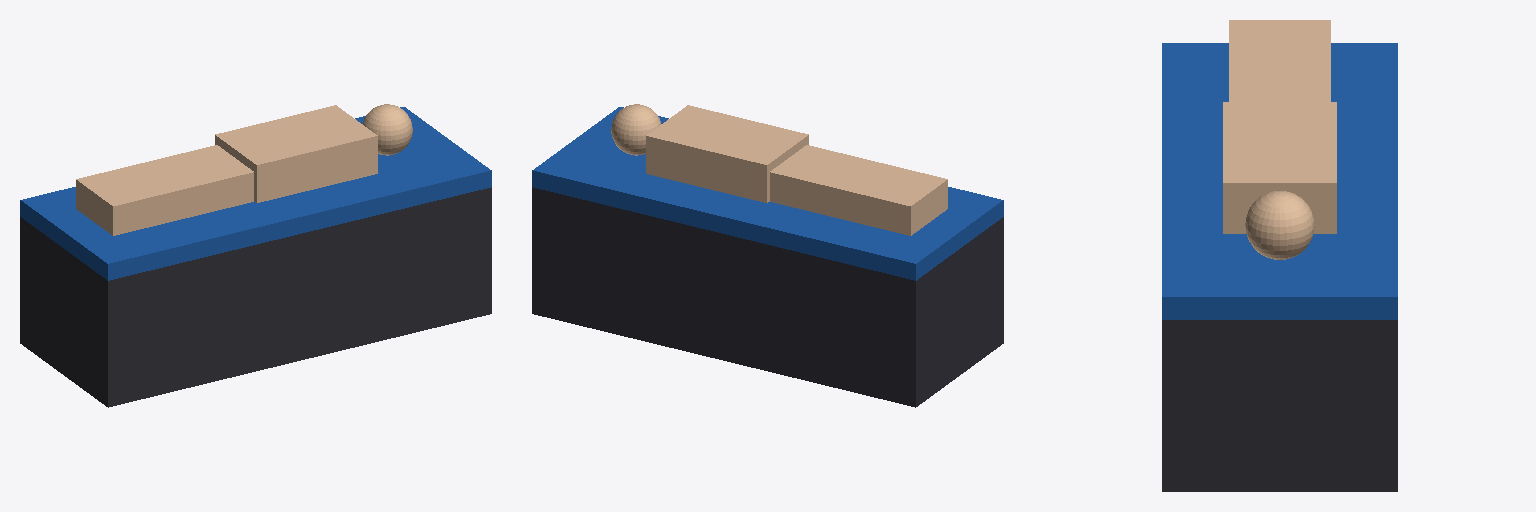
URDF robot description (tuina_bed):
<?xml version="1.0" ?>
<robot name="tuina_bed">
  <!-- Tuina Massage Bed and Patient Dummy URDF for TuinaDex Simulation -->
  
  <material name="frame_material">
    <color rgba="0.25 0.25 0.28 1.0"/>
  </material>

  <material name="mattress_material">
    <color rgba="0.18 0.42 0.70 1.0"/>
  </material>

  <material name="dummy_material">
    <color rgba="0.88 0.75 0.63 1.0"/>
  </material>

  <!-- World Base -->
  <link name="world"/>

  <!-- Bed Frame -->
  <link name="bed_frame">
    <visual>
      <origin xyz="0 0 0.30" rpy="0 0 0"/>
      <geometry>
        <box size="1.90 0.75 0.60"/>
      </geometry>
      <material name="frame_material"/>
    </visual>
    <collision>
      <origin xyz="0 0 0.30" rpy="0 0 0"/>
      <geometry>
        <box size="1.90 0.75 0.60"/>
      </geometry>
    </collision>
    <inertial>
      <origin xyz="0 0 0.30" rpy="0 0 0"/>
      <mass value="45.0"/>
      <inertia ixx="2.5" ixy="0" ixz="0" iyy="14.0" iyz="0" izz="15.0"/>
    </inertial>
  </link>

  <joint name="world_to_bed_frame" type="fixed">
    <parent link="world"/>
    <child link="bed_frame"/>
    <origin xyz="0 0 0" rpy="0 0 0"/>
  </joint>

  <!-- Bed Mattress -->
  <link name="bed_mattress">
    <visual>
      <origin xyz="0 0 0.64" rpy="0 0 0"/>
      <geometry>
        <box size="1.90 0.75 0.08"/>
      </geometry>
      <material name="mattress_material"/>
    </visual>
    <collision>
      <origin xyz="0 0 0.64" rpy="0 0 0"/>
      <geometry>
        <box size="1.90 0.75 0.08"/>
      </geometry>
    </collision>
    <inertial>
      <origin xyz="0 0 0.64" rpy="0 0 0"/>
      <mass value="15.0"/>
      <inertia ixx="0.7" ixy="0" ixz="0" iyy="4.5" iyz="0" izz="5.0"/>
    </inertial>
  </link>

  <joint name="bed_frame_to_mattress" type="fixed">
    <parent link="bed_frame"/>
    <child link="bed_mattress"/>
    <origin xyz="0 0 0" rpy="0 0 0"/>
  </joint>

  <!-- Patient Dummy - Torso (Primary massage target area) -->
  <link name="dummy_torso">
    <visual>
      <origin xyz="0.20 0 0.78" rpy="0 0 0"/>
      <geometry>
        <box size="0.60 0.36 0.18"/>
      </geometry>
      <material name="dummy_material"/>
    </visual>
    <collision>
      <origin xyz="0.20 0 0.78" rpy="0 0 0"/>
      <geometry>
        <box size="0.60 0.36 0.18"/>
      </geometry>
    </collision>
    <inertial>
      <origin xyz="0.20 0 0.78" rpy="0 0 0"/>
      <mass value="28.0"/>
      <inertia ixx="0.35" ixy="0" ixz="0" iyy="0.90" iyz="0" izz="1.10"/>
    </inertial>
  </link>

  <joint name="mattress_to_torso" type="fixed">
    <parent link="bed_mattress"/>
    <child link="dummy_torso"/>
    <origin xyz="0 0 0" rpy="0 0 0"/>
  </joint>

  <!-- Patient Dummy - Head -->
  <link name="dummy_head">
    <visual>
      <origin xyz="0.65 0 0.79" rpy="0 0 0"/>
      <geometry>
        <sphere radius="0.11"/>
      </geometry>
      <material name="dummy_material"/>
    </visual>
    <collision>
      <origin xyz="0.65 0 0.79" rpy="0 0 0"/>
      <geometry>
        <sphere radius="0.11"/>
      </geometry>
    </collision>
    <inertial>
      <origin xyz="0.65 0 0.79" rpy="0 0 0"/>
      <mass value="4.5"/>
      <inertia ixx="0.02" ixy="0" ixz="0" iyy="0.02" iyz="0" izz="0.02"/>
    </inertial>
  </link>

  <joint name="torso_to_head" type="fixed">
    <parent link="dummy_torso"/>
    <child link="dummy_head"/>
    <origin xyz="0 0 0" rpy="0 0 0"/>
  </joint>

  <!-- Patient Dummy - Pelvis & Legs -->
  <link name="dummy_legs">
    <visual>
      <origin xyz="-0.45 0 0.76" rpy="0 0 0"/>
      <geometry>
        <box size="0.70 0.32 0.14"/>
      </geometry>
      <material name="dummy_material"/>
    </visual>
    <collision>
      <origin xyz="-0.45 0 0.76" rpy="0 0 0"/>
      <geometry>
        <box size="0.70 0.32 0.14"/>
      </geometry>
    </collision>
    <inertial>
      <origin xyz="-0.45 0 0.76" rpy="0 0 0"/>
      <mass value="22.0"/>
      <inertia ixx="0.2" ixy="0" ixz="0" iyy="0.9" iyz="0" izz="1.0"/>
    </inertial>
  </link>

  <joint name="torso_to_legs" type="fixed">
    <parent link="dummy_torso"/>
    <child link="dummy_legs"/>
    <origin xyz="0 0 0" rpy="0 0 0"/>
  </joint>

</robot>

--- Facts derived from the render (not from the file) ---
Views: 3 orthographic renders of the robot side by side, from view 1: azimuth 30°, elevation 25°; view 2: azimuth 150°, elevation 25°; view 3: azimuth 270°, elevation 25°.
Model tuina_bed with 6 links and 5 joints (5 fixed), rooted at world, posed every joint at zero.
Visible links, largest first — view 1: bed_frame, bed_mattress, dummy_legs, dummy_torso, dummy_head; view 2: bed_frame, bed_mattress, dummy_legs, dummy_torso, dummy_head; view 3: bed_mattress, bed_frame, dummy_torso, dummy_legs, dummy_head.
Link boxes in pixels (x1,y1,x2,y2): bed_frame: (20, 187, 491, 407); bed_mattress: (20, 107, 491, 280); dummy_legs: (76, 145, 253, 235); dummy_torso: (215, 105, 377, 202); dummy_head: (363, 104, 412, 155); bed_frame: (532, 187, 1003, 407); bed_mattress: (532, 107, 1003, 280); dummy_legs: (770, 145, 947, 235); dummy_torso: (646, 105, 808, 202); dummy_head: (611, 104, 660, 155); bed_mattress: (1162, 43, 1397, 319); bed_frame: (1162, 320, 1397, 491); dummy_torso: (1223, 102, 1336, 233); dummy_legs: (1229, 20, 1330, 101); dummy_head: (1245, 191, 1314, 259).
Size in the robot's own frame: 1.9 by 0.75 by 0.9 metres.
Geometry: primitives only (box / cylinder / sphere), no mesh files.
